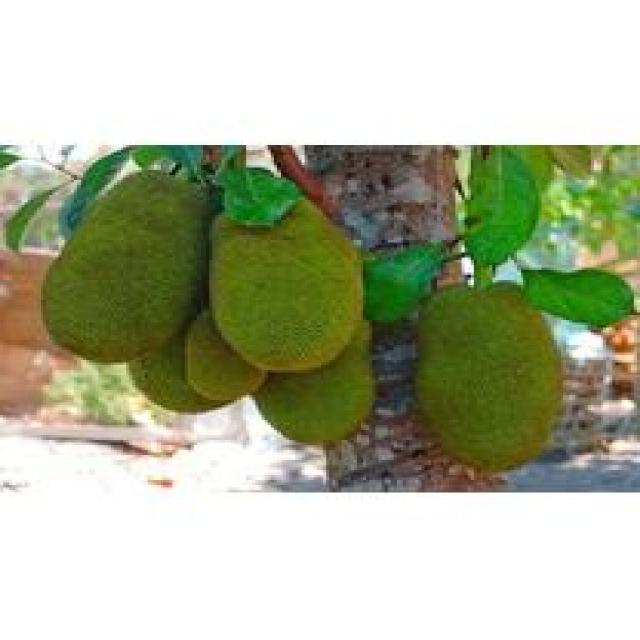Fruit: (25, 160, 252, 408), (190, 175, 384, 435), (400, 273, 575, 475)
